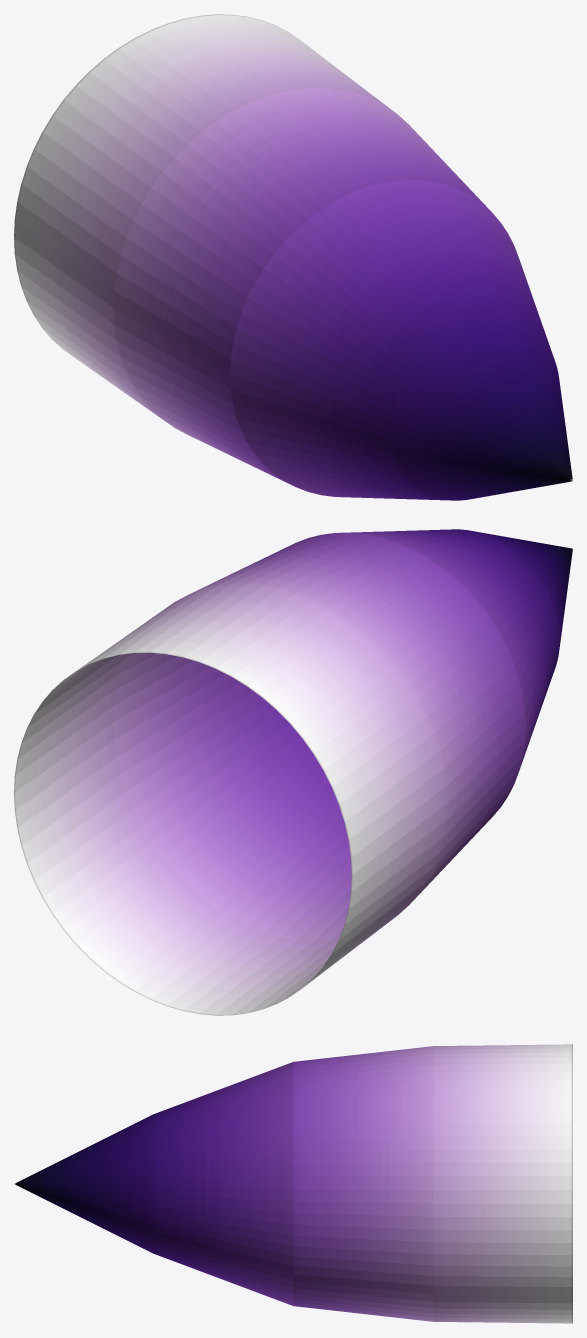
File: EngineFlame.fbx
The picture shows the model from 3 angles, top to bottom: view 1: azimuth 30°, elevation 25°; view 2: azimuth 150°, elevation 25°; view 3: azimuth 270°, elevation 25°; orthographic projection. The views are drawn at different scales.
Parts seen in each view (by area): view 1: EngineFlame; view 2: EngineFlame; view 3: EngineFlame.
Part boxes in pixels (left/top/right/bottom): EngineFlame: left=14, top=14, right=572, bottom=500; EngineFlame: left=14, top=529, right=572, bottom=1015; EngineFlame: left=14, top=1044, right=572, bottom=1323.
Size of the model in its own units: 15000 by 15000 by 30000.
